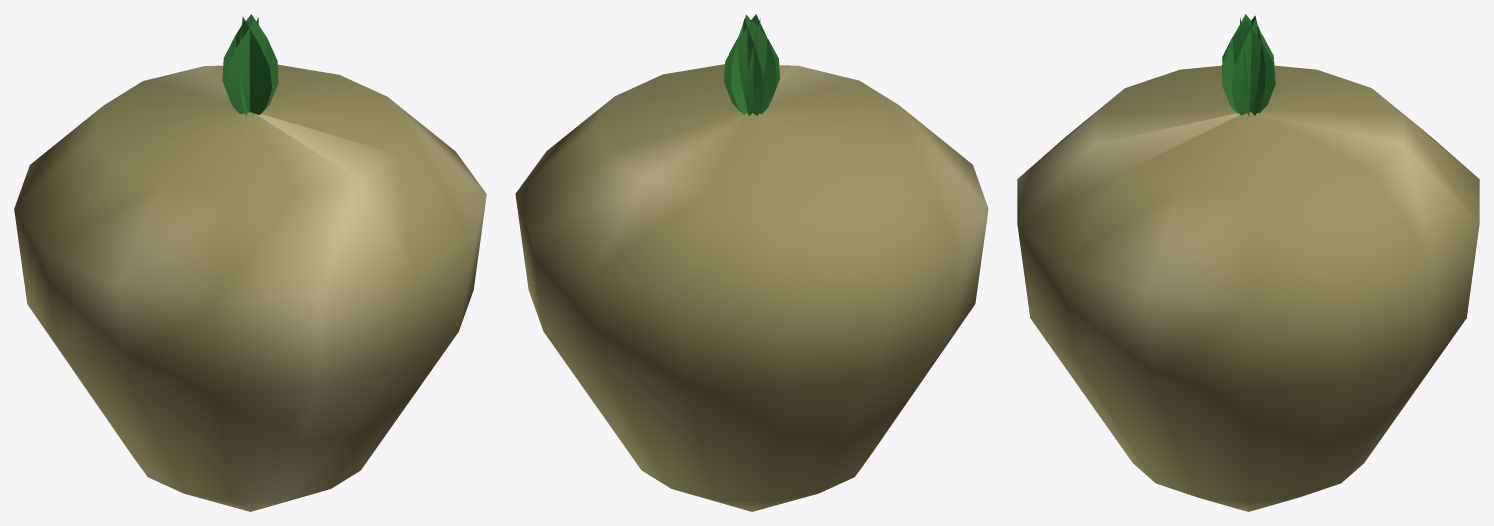
File: fruit-cactus-unripe.gltf
The picture shows the model from 3 angles, left to right: view 1: azimuth 30°, elevation 25°; view 2: azimuth 150°, elevation 25°; view 3: azimuth 270°, elevation 25°; orthographic projection.
Bounding box in the file's own units: 0.36 × 0.4142 × 0.351.
